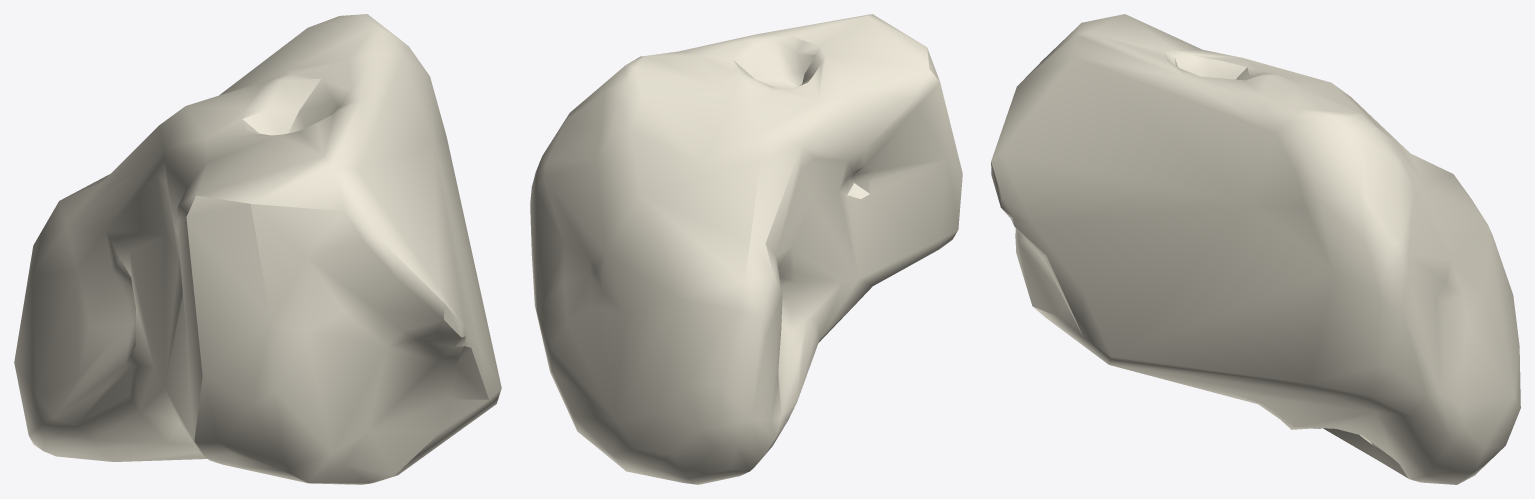
The model's file is fma24445.glb.
3 views of the same model, side by side, from view 1: azimuth 30°, elevation 25°; view 2: azimuth 150°, elevation 25°; view 3: azimuth 270°, elevation 25° (orthographic). The views are drawn at different scales.
Visible parts, largest first — view 1: FMA24445; view 2: FMA24445; view 3: FMA24445.
Part boxes in pixels (<box>): FMA24445: <box>14,14,501,484</box>; FMA24445: <box>530,14,962,484</box>; FMA24445: <box>991,14,1520,484</box>.
Bounding box in the file's own units: 0.0112 × 0.0127 × 0.015.
